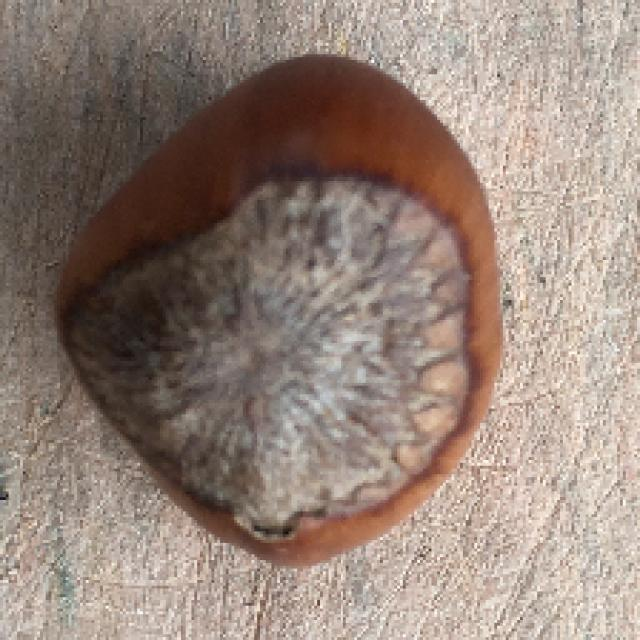damagedHazelnut: (43, 42, 506, 578)
